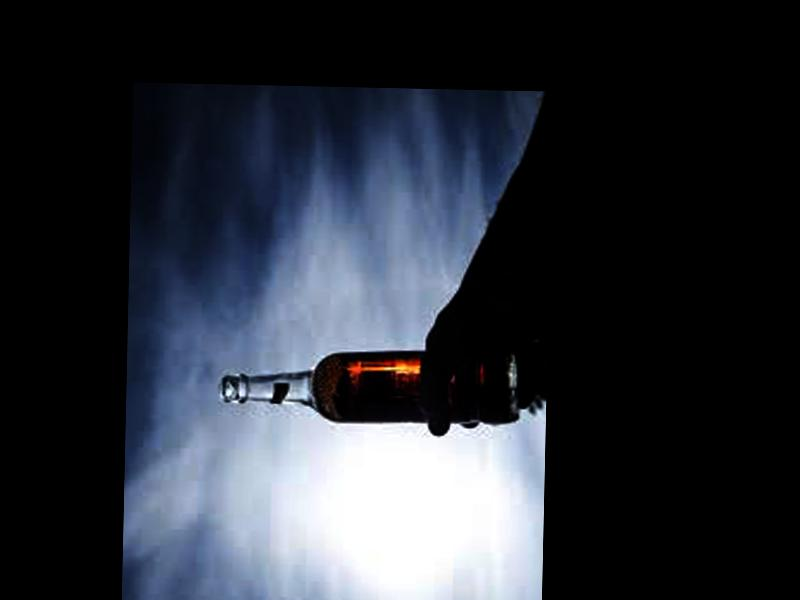Beer: (220, 346, 515, 422)
